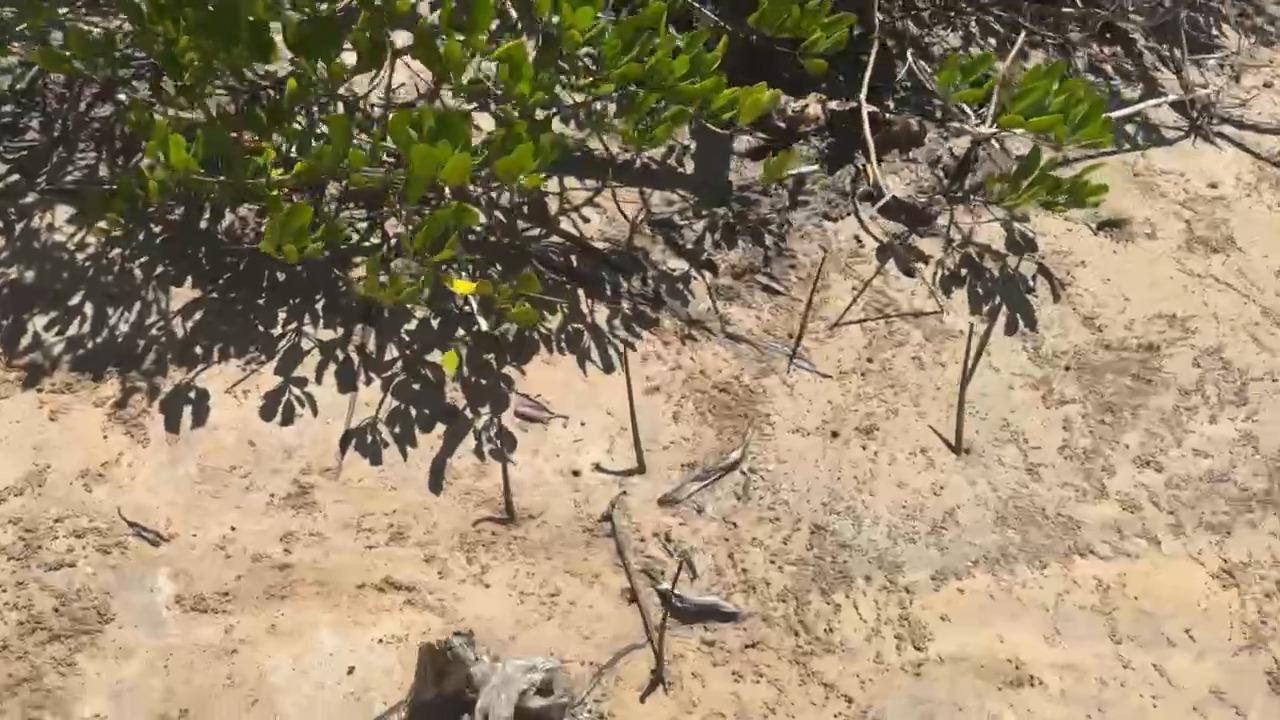Tree: (875, 218, 948, 315), (623, 339, 648, 476), (656, 560, 683, 681), (794, 249, 827, 342), (954, 321, 976, 456), (496, 415, 519, 522)
